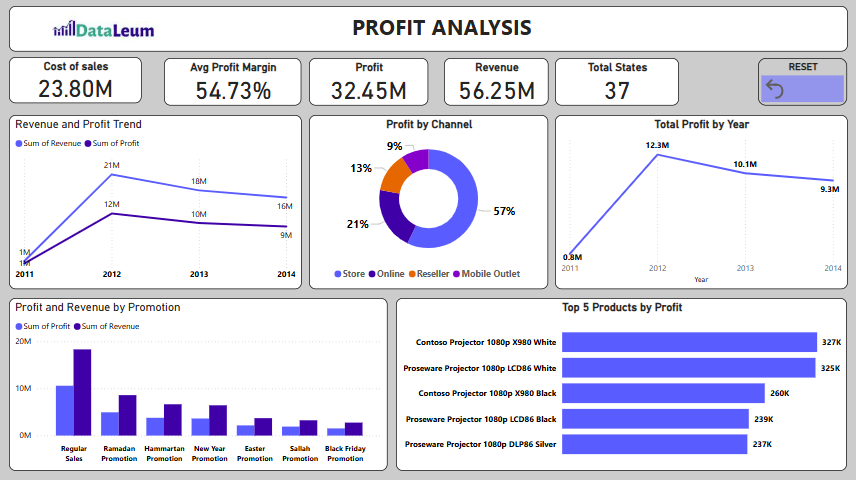

What the dashboard file says about the page in this screenshot:
{"tool":"powerbi","page":{"name":"Page 1","canvas":[1280,720],"ordinal":0},"visuals":[{"type":"card","title":"Profit","fields":{"Values":["Sum(SalesData.Profit)"]},"box":[461.2,88.2,177.8,70.8],"z":0},{"type":"card","title":"Revenue","fields":{"Values":["Sum(SalesData.Revenue)"]},"box":[662.2,88.2,156.1,70.8],"z":1000},{"type":"card","title":"Avg Profit Margin","fields":{"Values":["Avg(SalesData.Profit Margin)"]},"box":[244.3,88.2,205.3,70.8],"z":2000},{"type":"card","title":"Cost of sales","fields":{"Values":["Sum(SalesData.Cost of Sales)"]},"box":[13,86.7,198.1,69.4],"z":3000},{"type":"lineChart","title":"Total Profit by Year","fields":{"Category":["Calendar.Year"],"Y":["Sum(SalesData.Profit)"]},"box":[828.4,173.5,436.6,260.2],"z":4000},{"type":"donutChart","title":"Profit by Channel","fields":{"Y":["Sum(SalesData.Profit)"],"Category":["SalesChannel.ChannelName"]},"box":[461.2,173.5,357.1,260.2],"z":5000},{"type":"clusteredBarChart","title":"Top 5 Products by Profit","fields":{"Category":["SalesProduct.ProductName"],"Y":["Sum(SalesData.Profit)"]},"box":[591.7,446.7,673.3,258.3],"z":6000},{"type":"textbox","box":[13,10.1,1252,68],"z":7000},{"type":"clusteredColumnChart","title":"Profit and Revenue by Promotion","fields":{"Category":["SalesPromotion.PromotionName"],"Y":["Sum(SalesData.Profit)","Sum(SalesData.Revenue)"]},"box":[13.3,446.7,565,258.3],"z":8000},{"type":"lineChart","title":"Revenue and Profit Trend","fields":{"Y":["Sum(SalesData.Revenue)","Sum(SalesData.Profit)"],"Category":["Calendar.Year"]},"box":[13,173.5,436.6,260.2],"z":9000},{"type":"image","box":[45.7,12.9,214.3,61.4],"z":10000},{"type":"actionButton","title":"RESET","box":[1132,88.2,133,70.8],"z":11000},{"type":"card","title":"Total States","fields":{"Values":["CountNonNull(SalesState.State)"]},"box":[828.4,88.2,185.1,70.8],"z":12000}]}

Visuals, with their boxes in screenshot pixels (x1, y1, x2, y2), scaled from the page's 1280x720 canvas onto the 856x480 screenshot:
"Profit" card: 308,59,427,106
"Revenue" card: 443,59,547,106
"Avg Profit Margin" card: 163,59,301,106
"Cost of sales" card: 9,58,141,104
"Total Profit by Year" lineChart: 554,116,846,289
"Profit by Channel" donutChart: 308,116,547,289
"Top 5 Products by Profit" clusteredBarChart: 396,298,846,470
textbox: 9,7,846,52
"Profit and Revenue by Promotion" clusteredColumnChart: 9,298,387,470
"Revenue and Profit Trend" lineChart: 9,116,301,289
image: 31,9,174,50
"RESET" actionButton: 757,59,846,106
"Total States" card: 554,59,678,106
